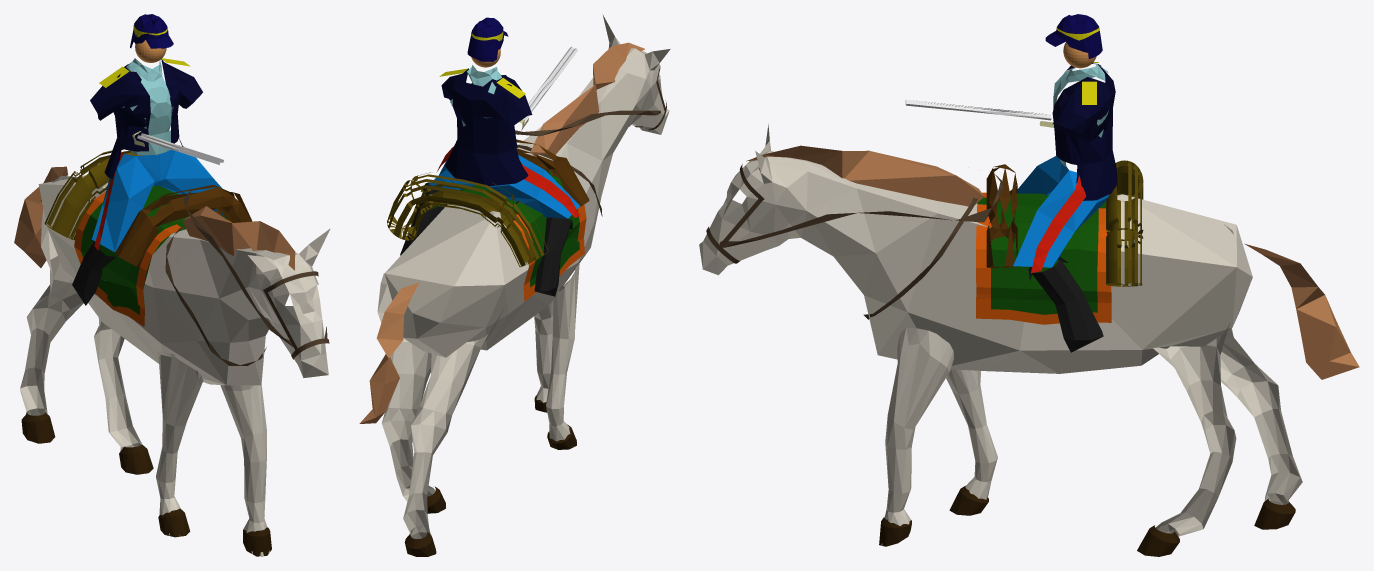
The model's file is Cavalry.glb.
3 views of the same model, side by side, from view 1: azimuth 30°, elevation 25°; view 2: azimuth 150°, elevation 25°; view 3: azimuth 270°, elevation 25° (orthographic). The views are drawn at different scales.
Parts seen in each view (by area): view 1: boot right; view 2: boot right; view 3: boot right.
Boxes of the visible parts, bbox=[...] form: boot right: bbox=[14, 14, 330, 556]; boot right: bbox=[359, 14, 670, 556]; boot right: bbox=[699, 14, 1359, 556].
Bounding box in the file's own units: 0.9939 × 2.7 × 3.1.
